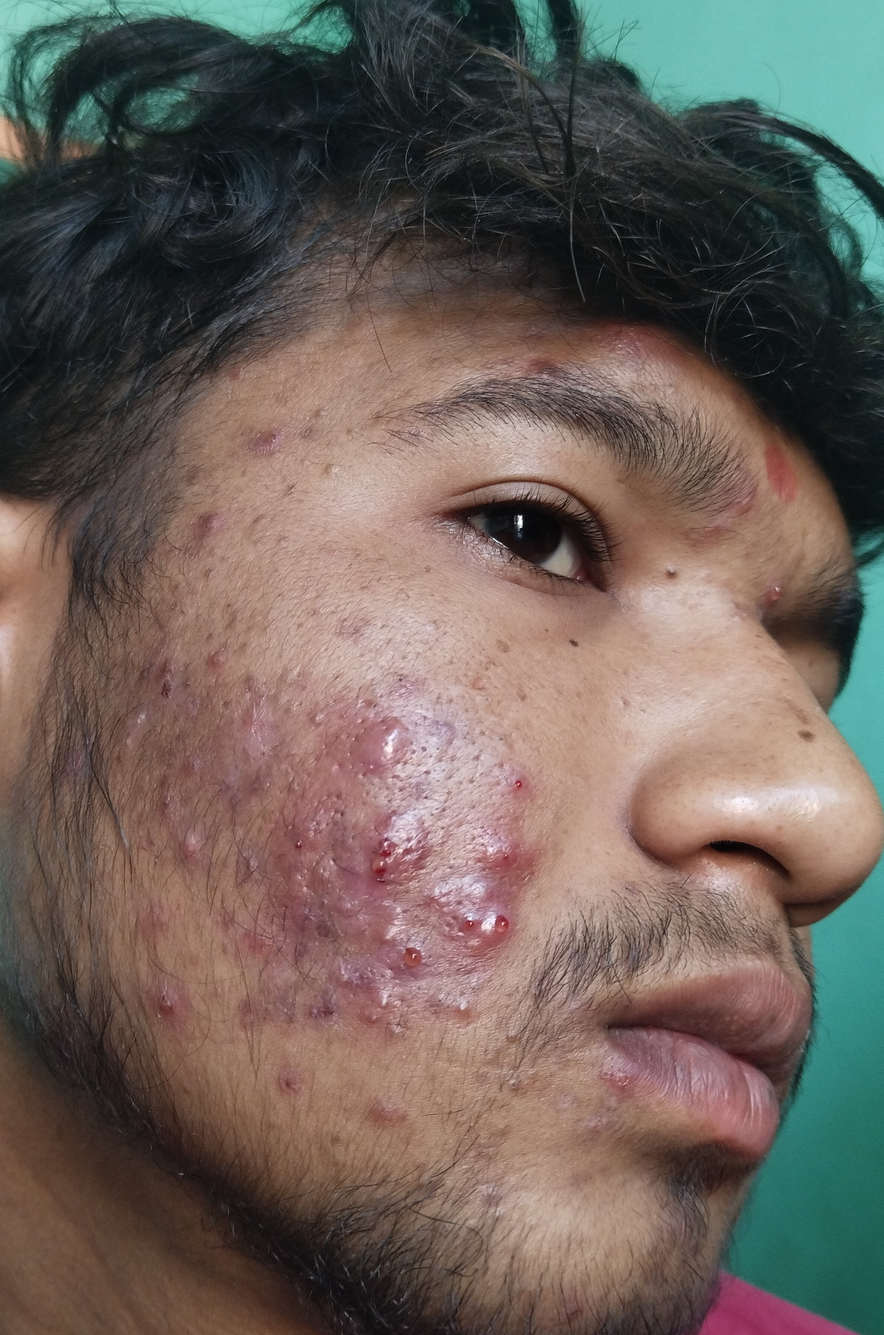cyst: (458, 891, 524, 959), (354, 715, 429, 774), (365, 915, 427, 979), (369, 818, 427, 886)
papule: (356, 979, 438, 1058), (356, 1083, 431, 1153), (442, 979, 506, 1052), (136, 646, 204, 712), (178, 486, 239, 558), (156, 812, 228, 869), (138, 961, 187, 1034), (272, 845, 321, 915), (295, 688, 350, 750)
